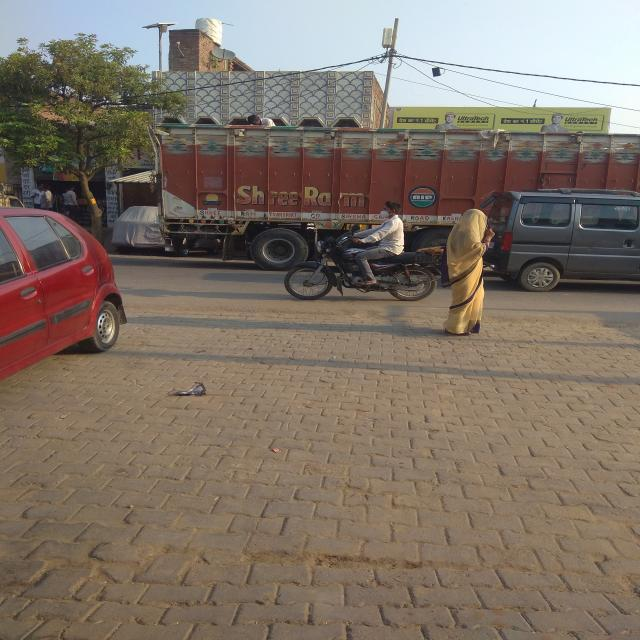Travller: (476, 167, 631, 310)
